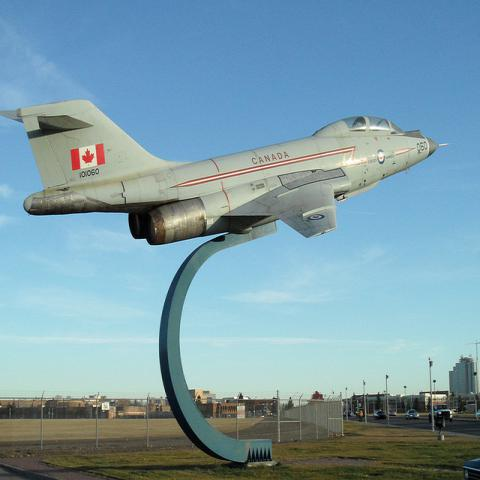car: (428, 403, 452, 423), (464, 458, 480, 480), (406, 409, 420, 420), (374, 410, 386, 420), (344, 410, 351, 417), (389, 409, 396, 416), (475, 409, 479, 419)
